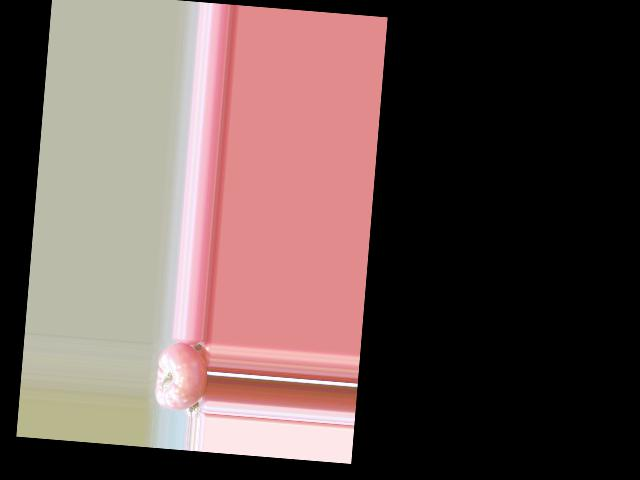tomato: (154, 339, 209, 412)
